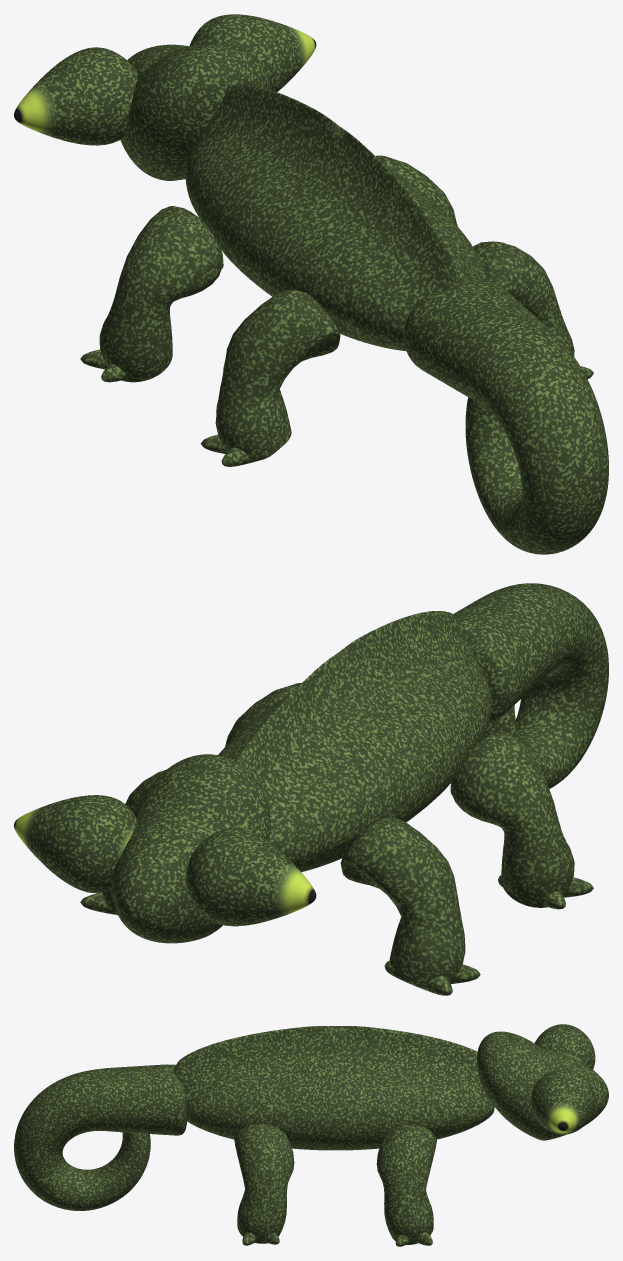
The picture shows the model from 3 angles, top to bottom: view 1: azimuth 30°, elevation 25°; view 2: azimuth 150°, elevation 25°; view 3: azimuth 270°, elevation 25°; orthographic projection. The views are drawn at different scales.
Visible parts, largest first — view 1: torso_body, tail, forelimb_left, hindlimb_left, head, eye_left, eye_right, hindlimb_right, forelimb_right; view 2: torso_body, tail, head, forelimb_left, hindlimb_left, eye_left, eye_right, forelimb_right, hindlimb_right; view 3: torso_body, tail, head, forelimb_right, hindlimb_right, eye_right, eye_left.
Boxes of the visible parts, x1,y1,x2,y2 form: torso_body: (185, 84, 488, 351); tail: (403, 280, 608, 554); forelimb_left: (80, 206, 223, 382); hindlimb_left: (200, 289, 340, 466); head: (120, 42, 270, 180); eye_left: (14, 47, 137, 145); eye_right: (189, 14, 316, 91); hindlimb_right: (473, 241, 593, 379); forelimb_right: (375, 155, 457, 225); torso_body: (218, 611, 491, 871); tail: (454, 583, 608, 788); head: (112, 754, 270, 943); forelimb_left: (340, 816, 480, 995); hindlimb_left: (450, 731, 593, 909); eye_left: (186, 828, 316, 926); eye_right: (14, 795, 137, 893); forelimb_right: (80, 770, 165, 915); hindlimb_right: (225, 683, 301, 746); torso_body: (174, 1026, 494, 1150); tail: (14, 1064, 187, 1210); head: (477, 1031, 608, 1140); forelimb_right: (376, 1124, 436, 1246); hindlimb_right: (234, 1123, 294, 1245); eye_right: (531, 1069, 595, 1134); eye_left: (534, 1024, 595, 1069).
Size of the model in its own units: 2.75 by 1.94 by 5.72.
Materials: 9 (9 with a texture image).
